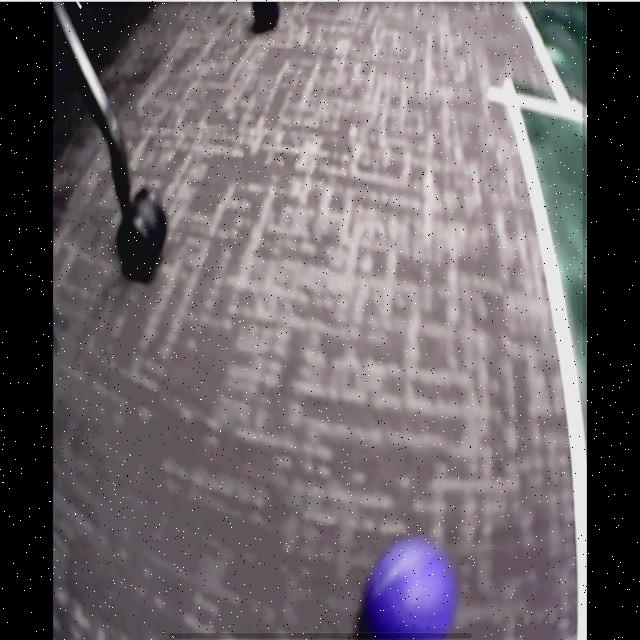ball: (365, 539, 457, 640)
